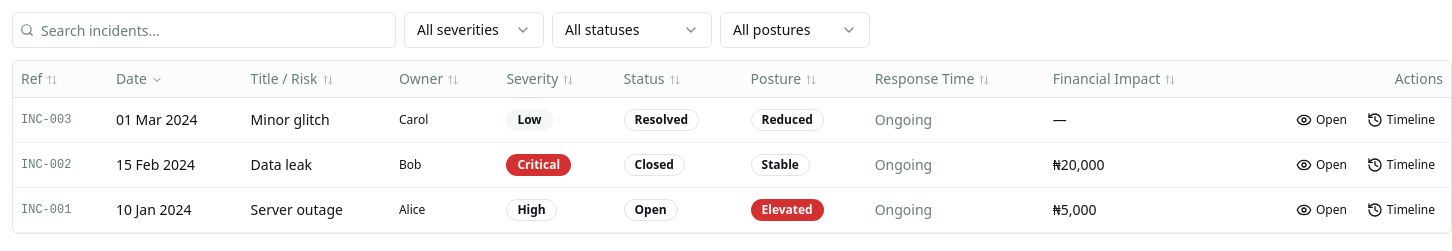
Test: IncidentsTable › filters rows by search text
In the field with placeholder "Search incidents…": (204, 30) [12,12,396,48], type "leak"
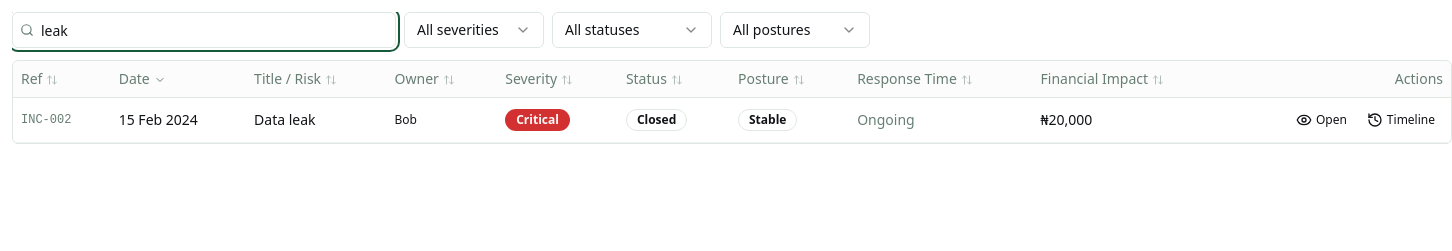
Check: the text "Data leak" is shown, box [254,110,316,129]
Check: the text "Server outage" is gone
